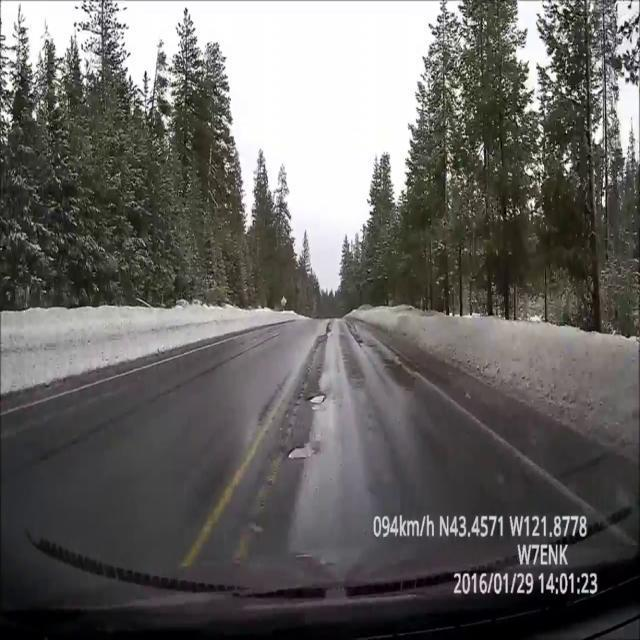pothole: (287, 438, 319, 465), (305, 388, 326, 410)
